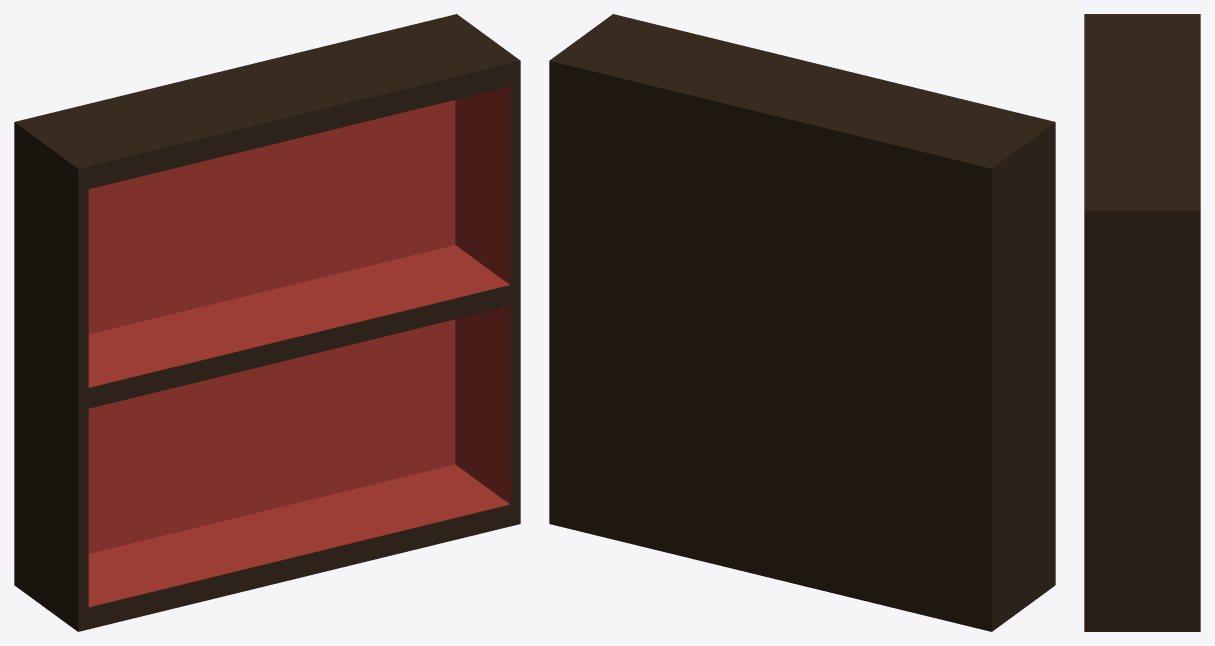
Rendered from Wall Cabinet.fbx.
The picture shows the model from 3 angles, left to right: view 1: azimuth 30°, elevation 25°; view 2: azimuth 150°, elevation 25°; view 3: azimuth 270°, elevation 25°; orthographic projection. The views are drawn at different scales.
Visible parts, largest first — view 1: Wall Cabinet; view 2: Wall Cabinet; view 3: Wall Cabinet.
Part boxes in pixels (x1,y1,x2,y2): Wall Cabinet: (14, 14, 520, 631); Wall Cabinet: (549, 14, 1055, 631); Wall Cabinet: (1084, 14, 1200, 631).
Bounding box in the file's own units: 1600 × 1600 × 400.
